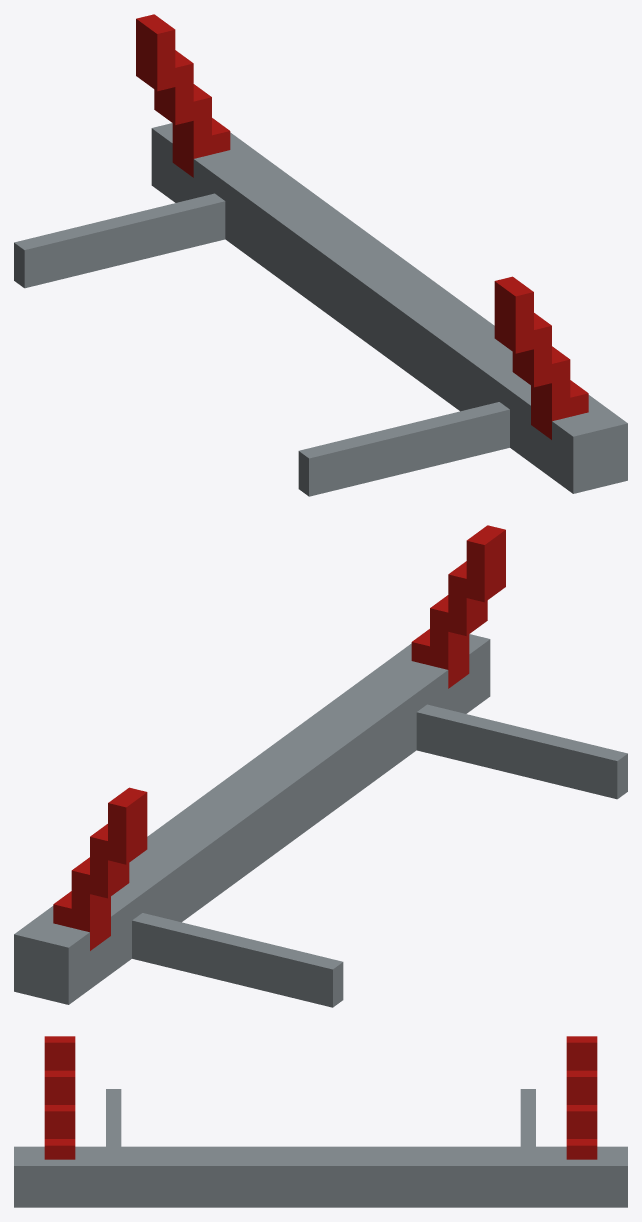
Rendered from beach_buggy_front_axle.glb.
3 views of the same model, one above another, from view 1: azimuth 30°, elevation 25°; view 2: azimuth 150°, elevation 25°; view 3: azimuth 270°, elevation 25° (orthographic). The views are drawn at different scales.
Parts seen in each view (by area): view 1: body:compound; view 2: body:compound; view 3: body:compound.
Boxes of the visible parts, x1,y1,x2,y2 form: body:compound: (14,14,627,496); body:compound: (14,525,627,1007); body:compound: (14,1036,627,1207).
Bounding box in the file's own units: 0.4375 × 0.3125 × 1.25.
